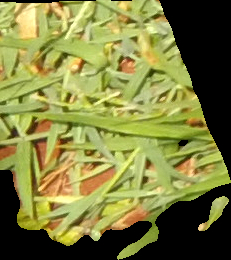grass: (1, 1, 230, 258)
